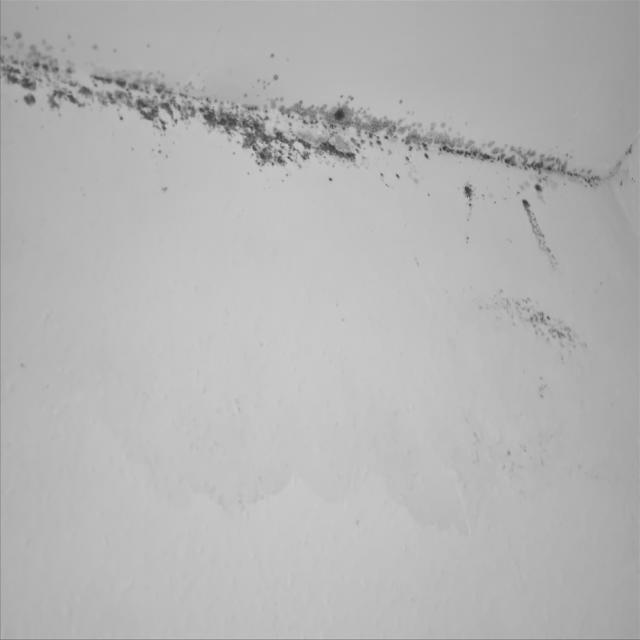stain marks: (0, 4, 640, 558)
